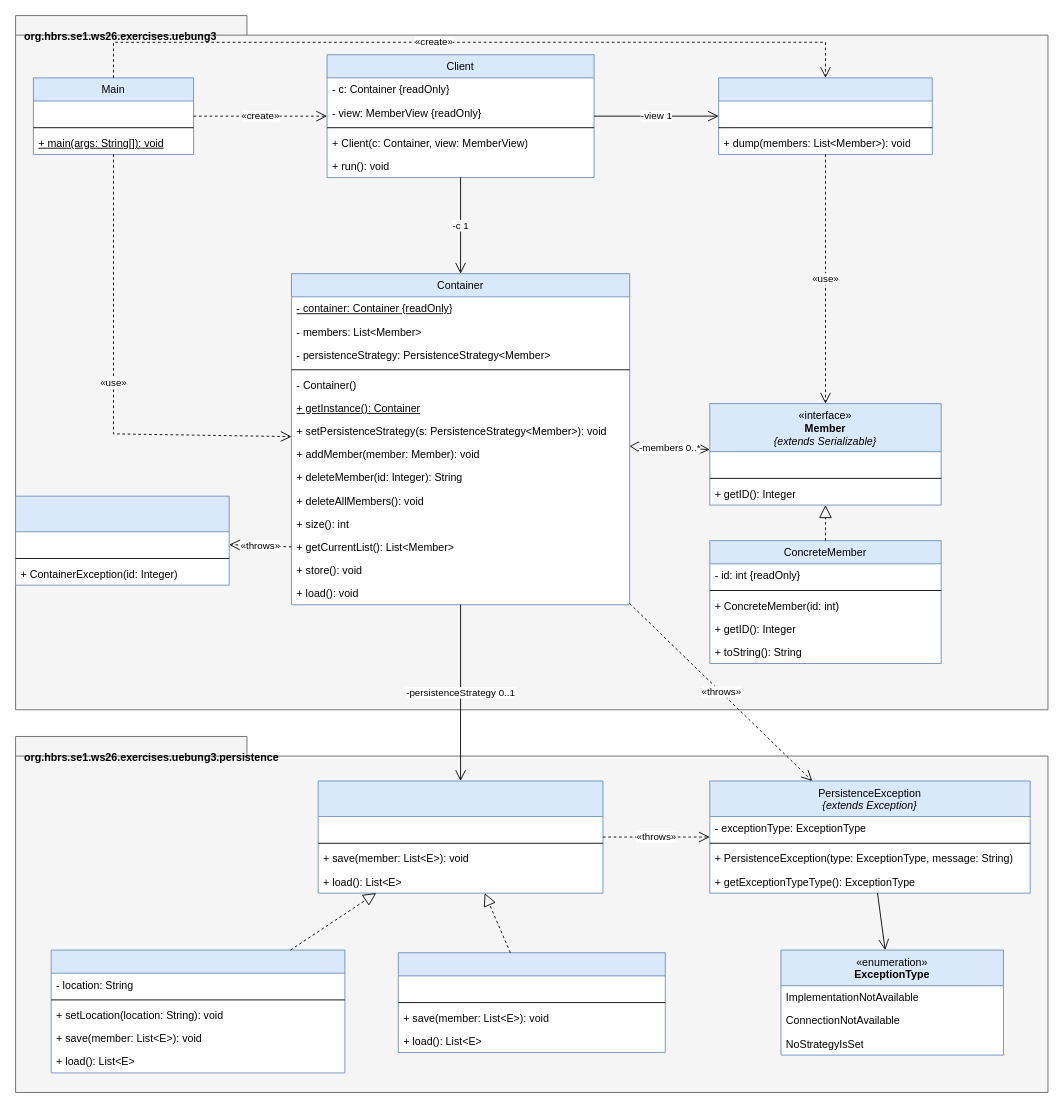
Some shapes in this 1064 by 1108 pixel diagram are drawn without their labels. Here are the shapes that lost their labels. From the top down, the box of each, then its label:
(718, 77, 932, 154): MemberView
(15, 495, 229, 585): ContainerException {extends Exception}
(317, 780, 603, 893): «interface» PersistenceStrategy<E>
(50, 949, 345, 1073): PersistenceStrategyStream<E>
(397, 952, 665, 1052): PersistenceStrategyMongoDB<E>
